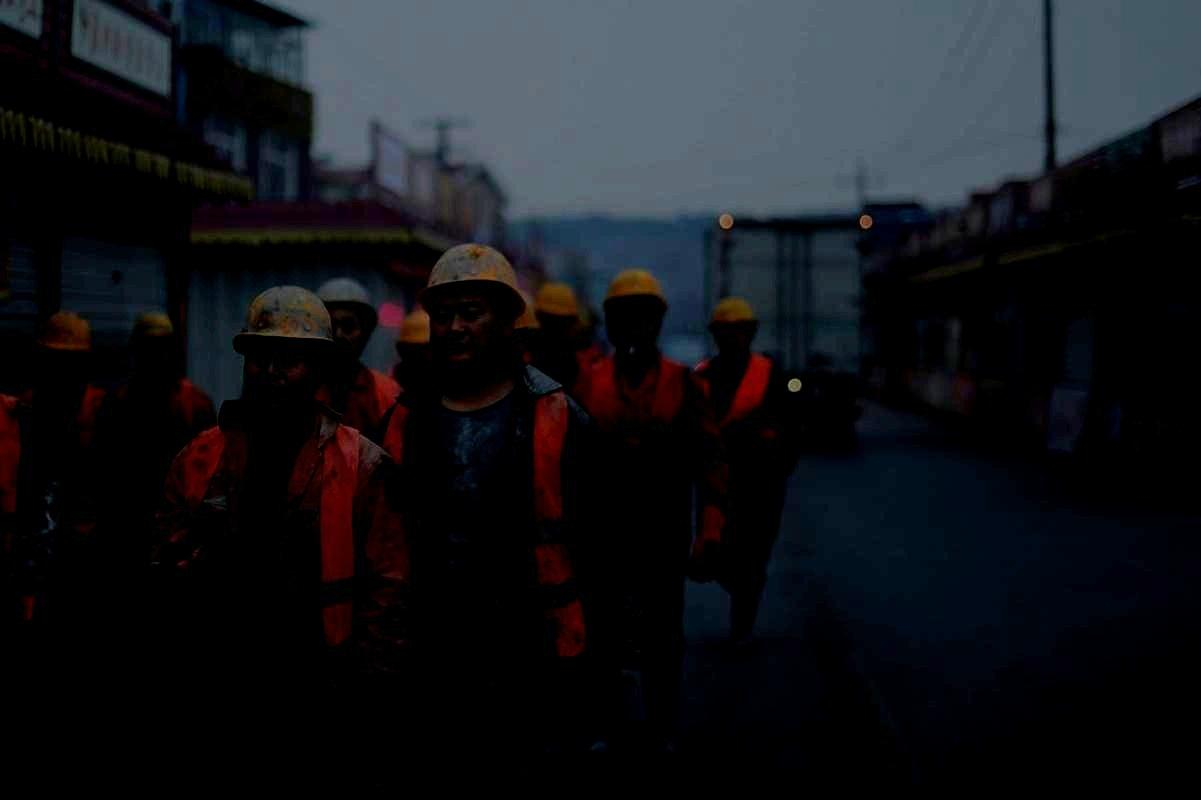helmet: (232, 286, 336, 411), (418, 244, 527, 362), (315, 278, 379, 364), (600, 268, 669, 347), (709, 295, 759, 356), (533, 281, 579, 346), (512, 288, 540, 364), (43, 308, 90, 352), (394, 307, 431, 362), (130, 309, 175, 343)
